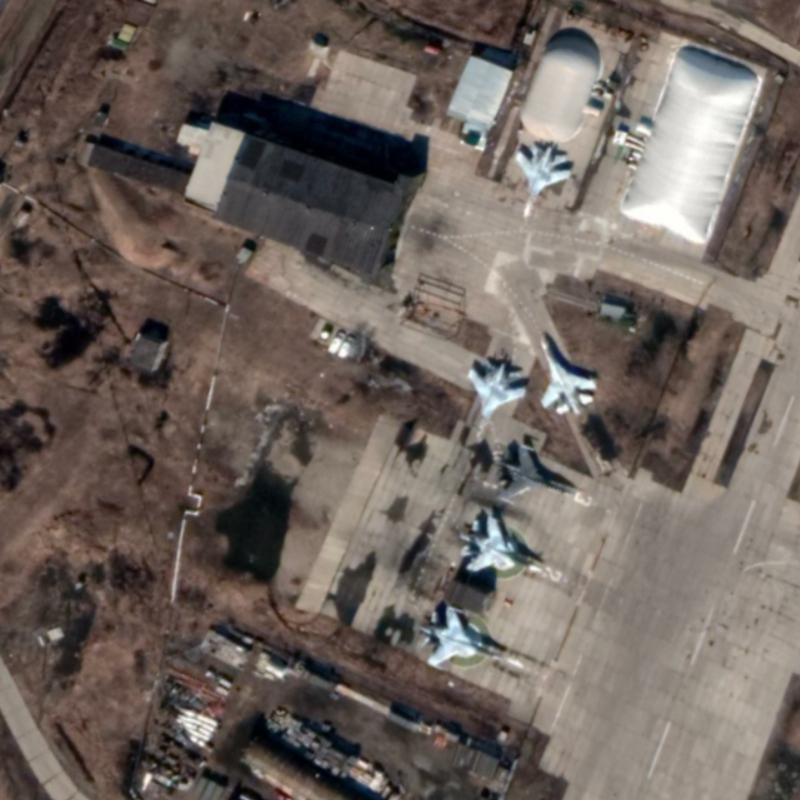A1: (417, 602, 506, 671), (535, 328, 598, 416), (492, 441, 575, 505), (464, 360, 527, 442), (513, 142, 572, 219)
A19: (456, 512, 547, 574)
